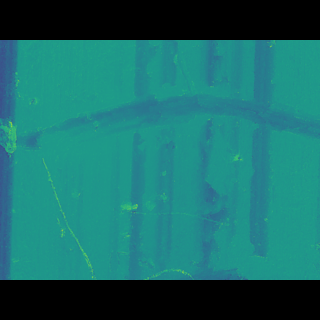Loch: (7, 101, 319, 157)
